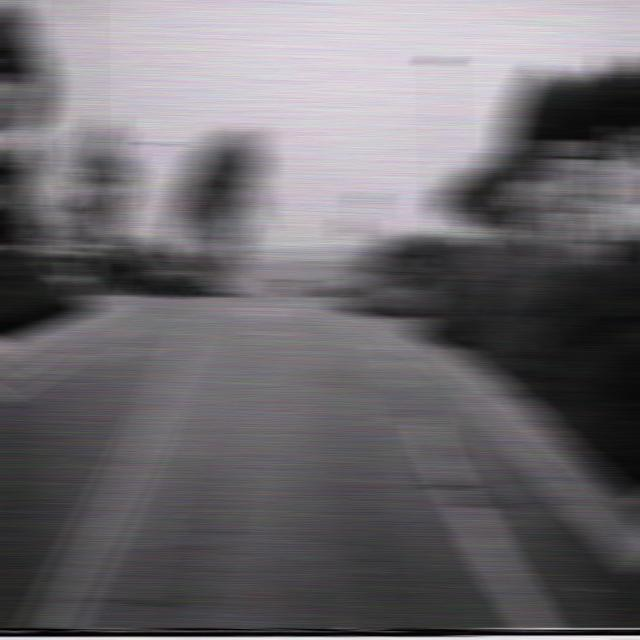stop_sign: (339, 216, 365, 240)
